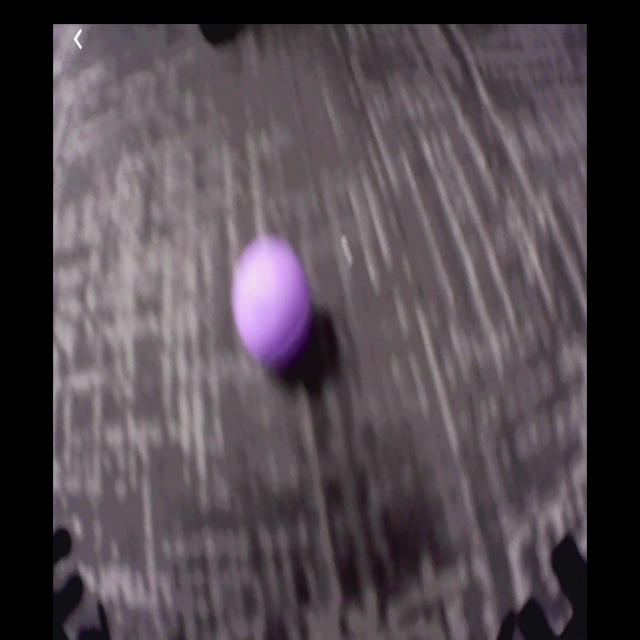ball: (232, 242, 314, 363)
